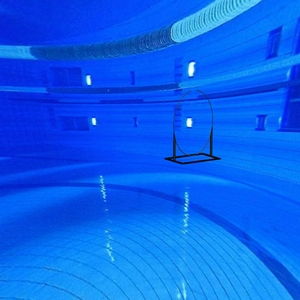circle: (164, 89, 223, 168)
